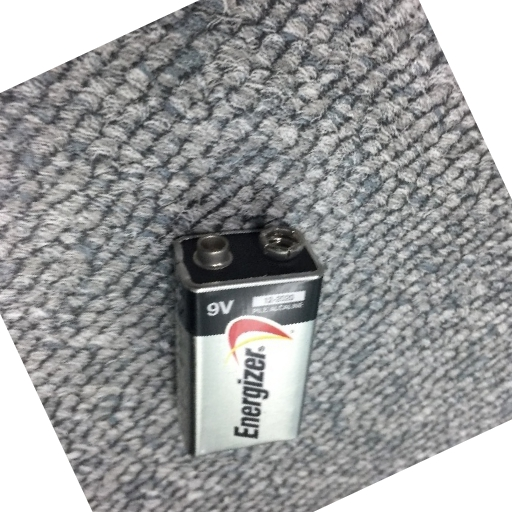Battery_3: (164, 205, 322, 472)
